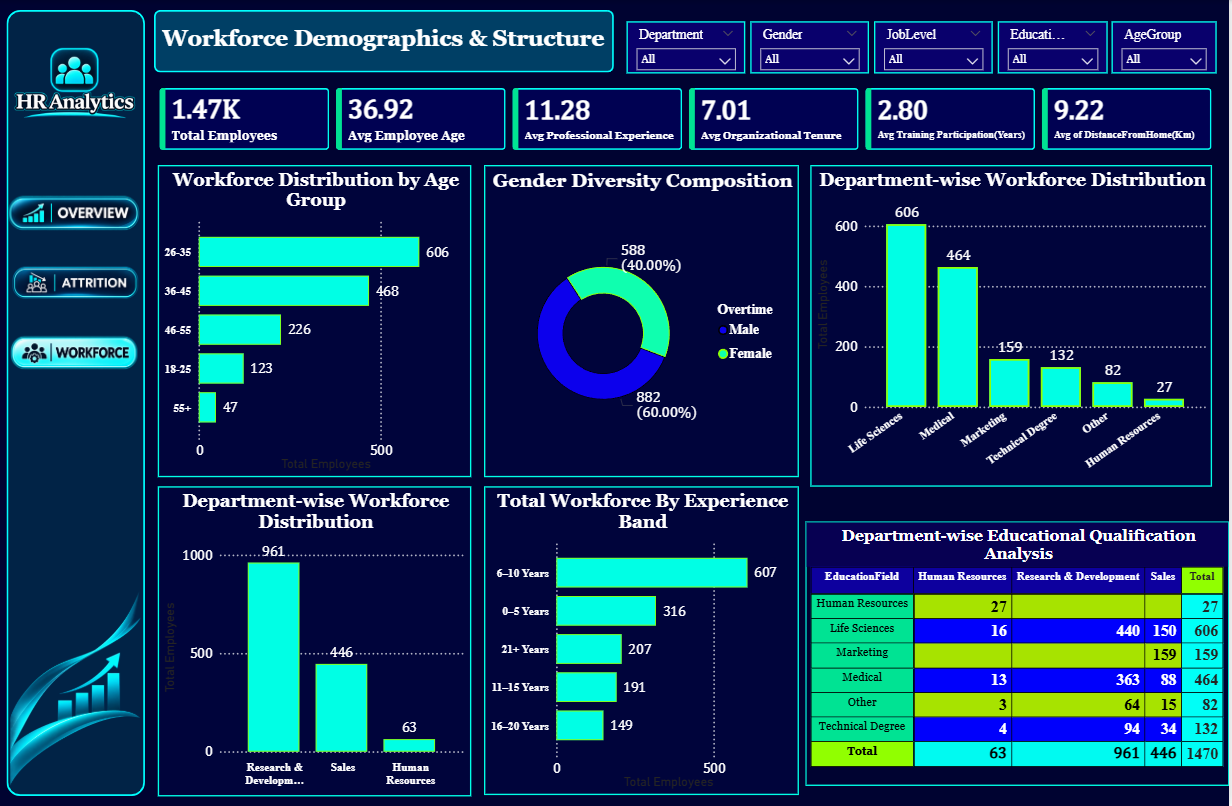

This screenshot's page, from the dashboard's own definition file:
{"tool":"powerbi","page":{"name":"WORKFORCE","canvas":[1450,950],"ordinal":2},"visuals":[{"type":"shape","box":[183,11.8,542,73.7],"z":0},{"type":"textbox","box":[187.1,25,552.5,60.4],"z":1000},{"type":"cardVisual","fields":{"Data":["HR_Analytics.Total Employees","Avg(HR_Analytics.Age)","Avg(HR_Analytics.TotalWorkingYears)","Avg(HR_Analytics.YearsAtCompany)","Avg(HR_Analytics.TrainingTimesLastYear)","Avg(HR_Analytics.DistanceFromHome)"]},"box":[172.5,86.4,1277.5,107.1],"z":2000},{"type":"barChart","title":"\tWorkforce Distribution by Age Group","fields":{"Category":["HR_Analytics.AgeGroup"],"Y":["HR_Analytics.Total Employees"]},"box":[187.1,194.5,369.8,368.3],"z":3000},{"type":"donutChart","title":"Gender Diversity Composition","fields":{"Category":["HR_Analytics.Gender"],"Y":["HR_Analytics.Total Employees"]},"box":[571.7,194.5,371.3,368.3],"z":4000},{"type":"columnChart","title":"Department-wise Workforce Distribution","fields":{"Category":["HR_Analytics.Department"],"Y":["HR_Analytics.Total Employees"]},"box":[187.1,573.1,369.8,365.4],"z":5000},{"type":"barChart","title":"Total Workforce By Experience Band","fields":{"Category":["HR_Analytics.Experience Group"],"Y":["HR_Analytics.Total Employees"]},"box":[571.7,573.1,371.3,363.9],"z":6000},{"type":"columnChart","title":"Department-wise Workforce Distribution","fields":{"Y":["HR_Analytics.Total Employees"],"Category":["HR_Analytics.EducationField"]},"box":[956.8,194.7,473.9,378.8],"z":7000},{"type":"pivotTable","title":"Department-wise Educational Qualification Analysis","fields":{"Columns":["HR_Analytics.Department"],"Rows":["HR_Analytics.EducationField"],"Values":["HR_Analytics.Total Employees"]},"box":[950,614,500,312.4],"z":8000},{"type":"shape","box":[9.3,12.4,163.2,926.5],"z":9000},{"type":"image","box":[12.1,18.1,155.4,161.5],"z":10000},{"type":"image","box":[12.1,374.3,153.9,83],"z":11000},{"type":"image","box":[13.6,670.1,153.9,279.2],"z":12000},{"type":"image","box":[9.1,212.8,158.5,78.5],"z":13000},{"type":"image","box":[13.6,291.3,153.9,83],"z":14000},{"type":"slicer","fields":{"Values":["HR_Analytics.Department"]},"box":[739.5,25.7,140.4,61.9],"z":15000},{"type":"slicer","fields":{"Values":["HR_Analytics.Gender"]},"box":[885.9,25.7,140.4,61.9],"z":16000},{"type":"slicer","fields":{"Values":["HR_Analytics.JobLevel"]},"box":[1032,25.7,140.4,61.9],"z":17000},{"type":"slicer","fields":{"Values":["HR_Analytics.EducationField"]},"box":[1177.1,25.7,129.8,61.9],"z":18000},{"type":"slicer","fields":{"Values":["HR_Analytics.AgeGroup"]},"box":[1311,25.7,123.8,61.9],"z":19000}]}

Visuals, with their boxes in screenshot pixels (x1, y1, x2, y2), scaled from the page's 1450x950 canvas onto the 1232x806 screenshot:
shape: left=155, top=10, right=616, bottom=73
textbox: left=159, top=21, right=628, bottom=72
cardVisual - HR_Analytics.Total Employees x Avg(HR_Analytics.Age): left=147, top=73, right=1231, bottom=164
"	Workforce Distribution by Age Group" barChart: left=159, top=165, right=473, bottom=477
"Gender Diversity Composition" donutChart: left=486, top=165, right=801, bottom=477
"Department-wise Workforce Distribution" columnChart: left=159, top=486, right=473, bottom=796
"Total Workforce By Experience Band" barChart: left=486, top=486, right=801, bottom=795
"Department-wise Workforce Distribution" columnChart: left=813, top=165, right=1216, bottom=487
"Department-wise Educational Qualification Analysis" pivotTable: left=807, top=521, right=1231, bottom=786
shape: left=8, top=11, right=147, bottom=797
image: left=10, top=15, right=142, bottom=152
image: left=10, top=318, right=141, bottom=388
image: left=12, top=569, right=142, bottom=805
image: left=8, top=181, right=142, bottom=247
image: left=12, top=247, right=142, bottom=318
slicer - HR_Analytics.Department: left=628, top=22, right=748, bottom=74
slicer - HR_Analytics.Gender: left=753, top=22, right=872, bottom=74
slicer - HR_Analytics.JobLevel: left=877, top=22, right=996, bottom=74
slicer - HR_Analytics.EducationField: left=1000, top=22, right=1110, bottom=74
slicer - HR_Analytics.AgeGroup: left=1114, top=22, right=1219, bottom=74
